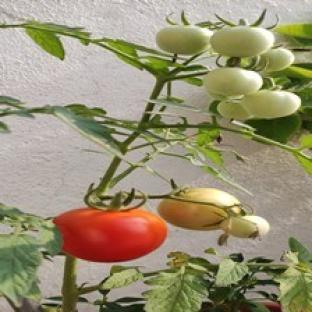Tomato: (55, 208, 167, 261), (158, 189, 240, 231), (211, 26, 274, 57), (204, 67, 263, 98), (241, 90, 300, 119), (156, 26, 213, 55), (221, 215, 270, 238), (261, 48, 295, 72), (218, 101, 252, 121)
